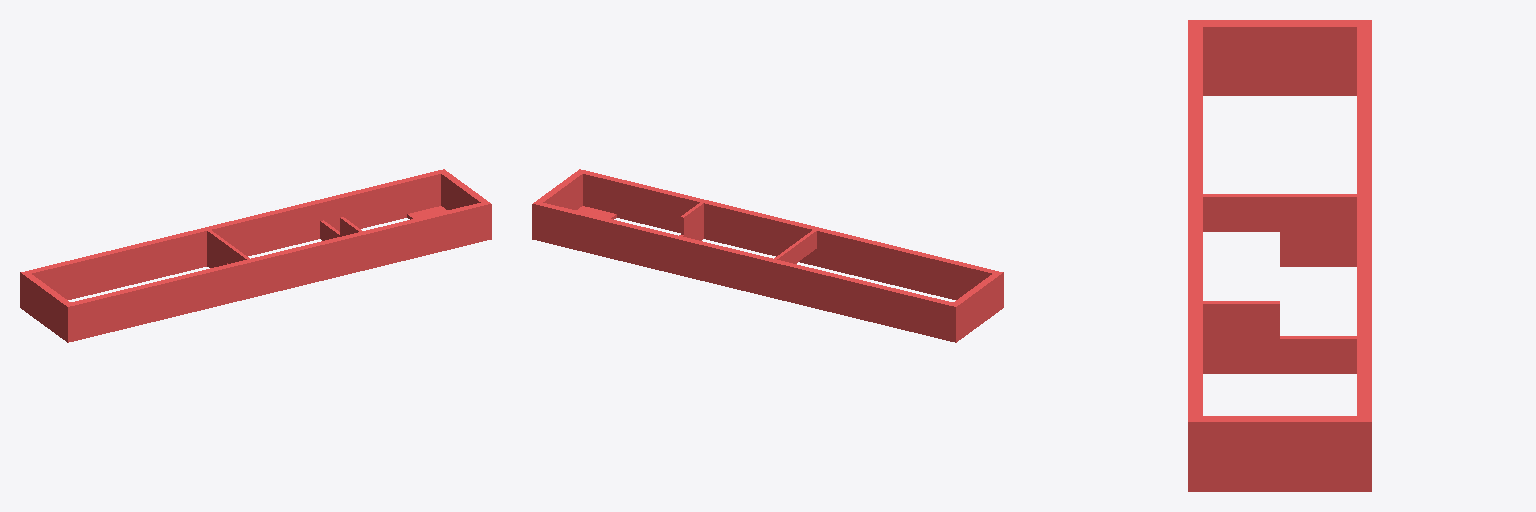
The robot description file, URDF, robot "long_room_2_window_wall.urdf":
<?xml version="1.0" ?>
<robot name="long_room_2_window_wall.urdf">
  <link concave="yes" name="baseLink">
    <inertial>
      <origin rpy="0 0 0" xyz="0.0 0.0 0.0"/>
       <mass value=".0"/>
       <inertia ixx="0" ixy="0" ixz="0" iyy="0" iyz="0" izz="0"/>
    </inertial>

    <visual>
      <origin rpy="1.57075 0 0" xyz="0 0 0"/>
      <geometry>
        <mesh filename="long_room_2_window_wall.obj" scale="1 1 1"/>
      </geometry>
       <material name="red">
        <color rgba="1 0.4 0.4 1"/>
      </material>
    </visual>

    <collision concave="yes">
      <origin rpy="1.57075 0 0" xyz="0 0 0"/>
      <geometry>
	 	    <mesh filename="long_room_2_window_wall.obj" scale="1 1 1"/>
      </geometry>
    </collision>
  </link>
</robot>

--- What the picture shows (computed from the rendered views, not written in the file) ---
The picture shows the robot from 3 angles, left to right: view 1: azimuth 30°, elevation 25°; view 2: azimuth 150°, elevation 25°; view 3: azimuth 270°, elevation 25°; orthographic projection.
Model long_room_2_window_wall.urdf with 1 links and 0 joints (none), rooted at baseLink, posed all joints at 0.
Visible links, largest first — view 1: baseLink; view 2: baseLink; view 3: baseLink.
Link boxes in pixels (<box>): baseLink: <box>20,169,491,342</box>; baseLink: <box>532,169,1003,342</box>; baseLink: <box>1188,20,1371,491</box>.
Size in the robot's own frame: 12.4 by 2.4 by 1 metres.
Meshes: 1 distinct files referenced, 1 mesh visuals loaded (1 OBJ).